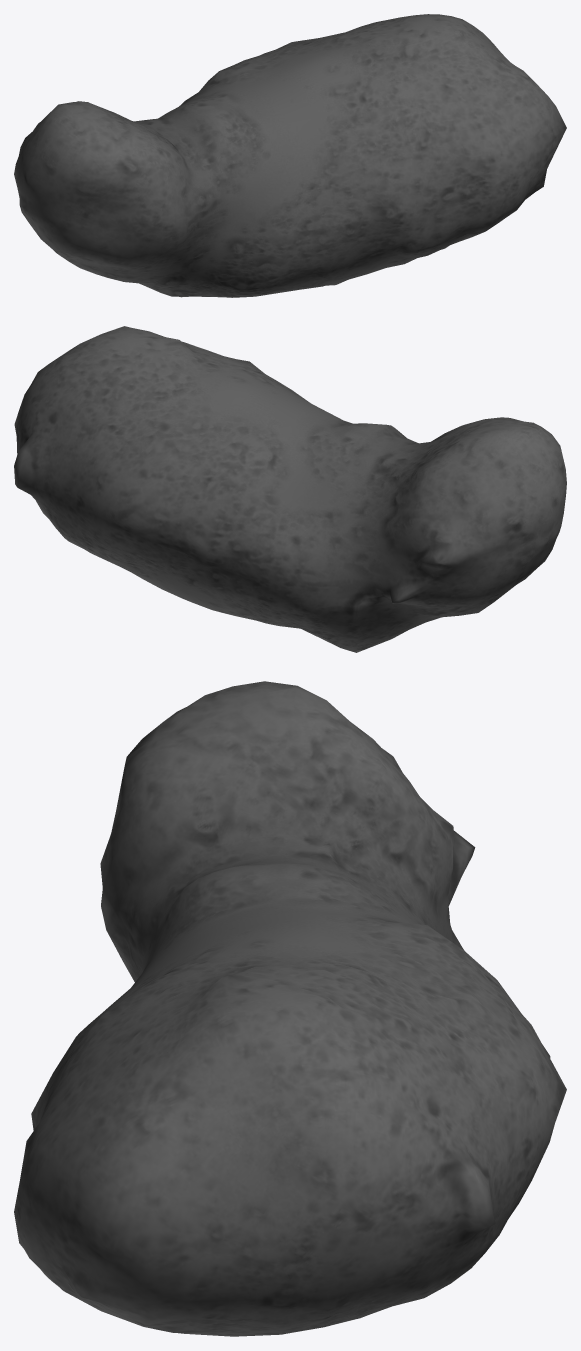
File: asteroid5.gltf
3 views of the same model, one above another, from view 1: azimuth 30°, elevation 25°; view 2: azimuth 150°, elevation 25°; view 3: azimuth 270°, elevation 25° (orthographic). The views are drawn at different scales.
Visible parts, largest first — view 1: itokawa_LP; view 2: itokawa_LP; view 3: itokawa_LP.
Boxes of the visible parts, x1,y1,x2,y2 form: itokawa_LP: [14, 14, 566, 297]; itokawa_LP: [14, 326, 566, 652]; itokawa_LP: [14, 681, 566, 1336].
Bounding box in the file's own units: 3.78 × 1.64 × 2.05.
1 material, 1 textured.
